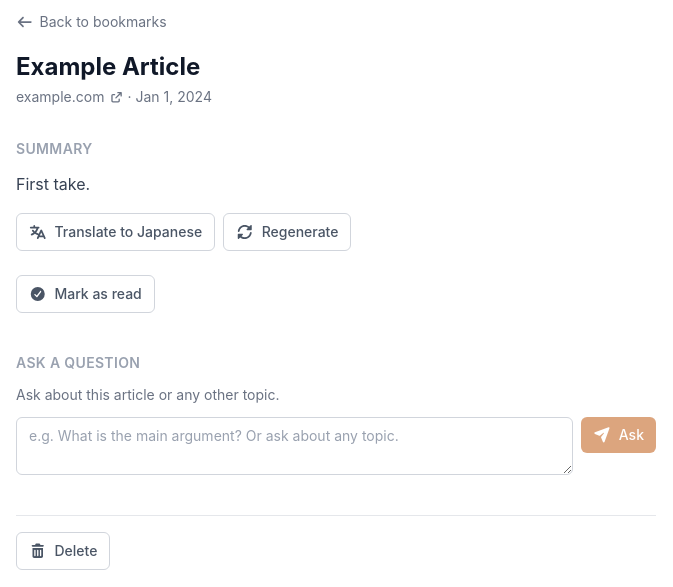
Test: BookmarkPage › adopts a summary the failed request had already persisted
Click the button "Regenerate". click: (287, 232)
box: [223,213,352,251]
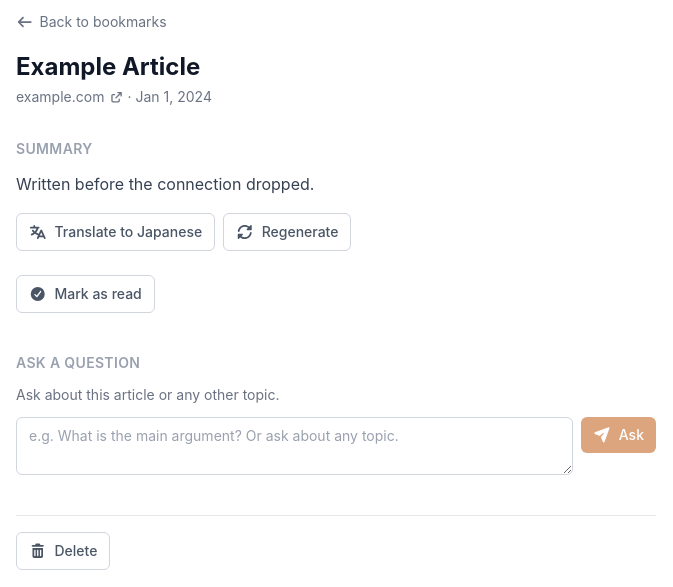
Expected: the text "Written before the connection dropped." is shown, [16,171,314,197]
